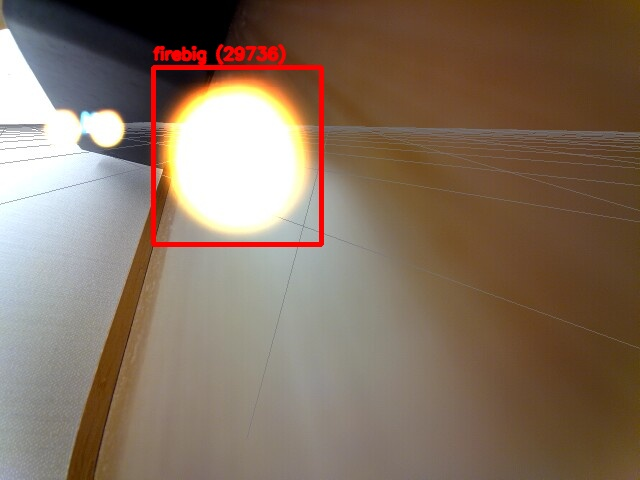firebig: (153, 67, 321, 244)
